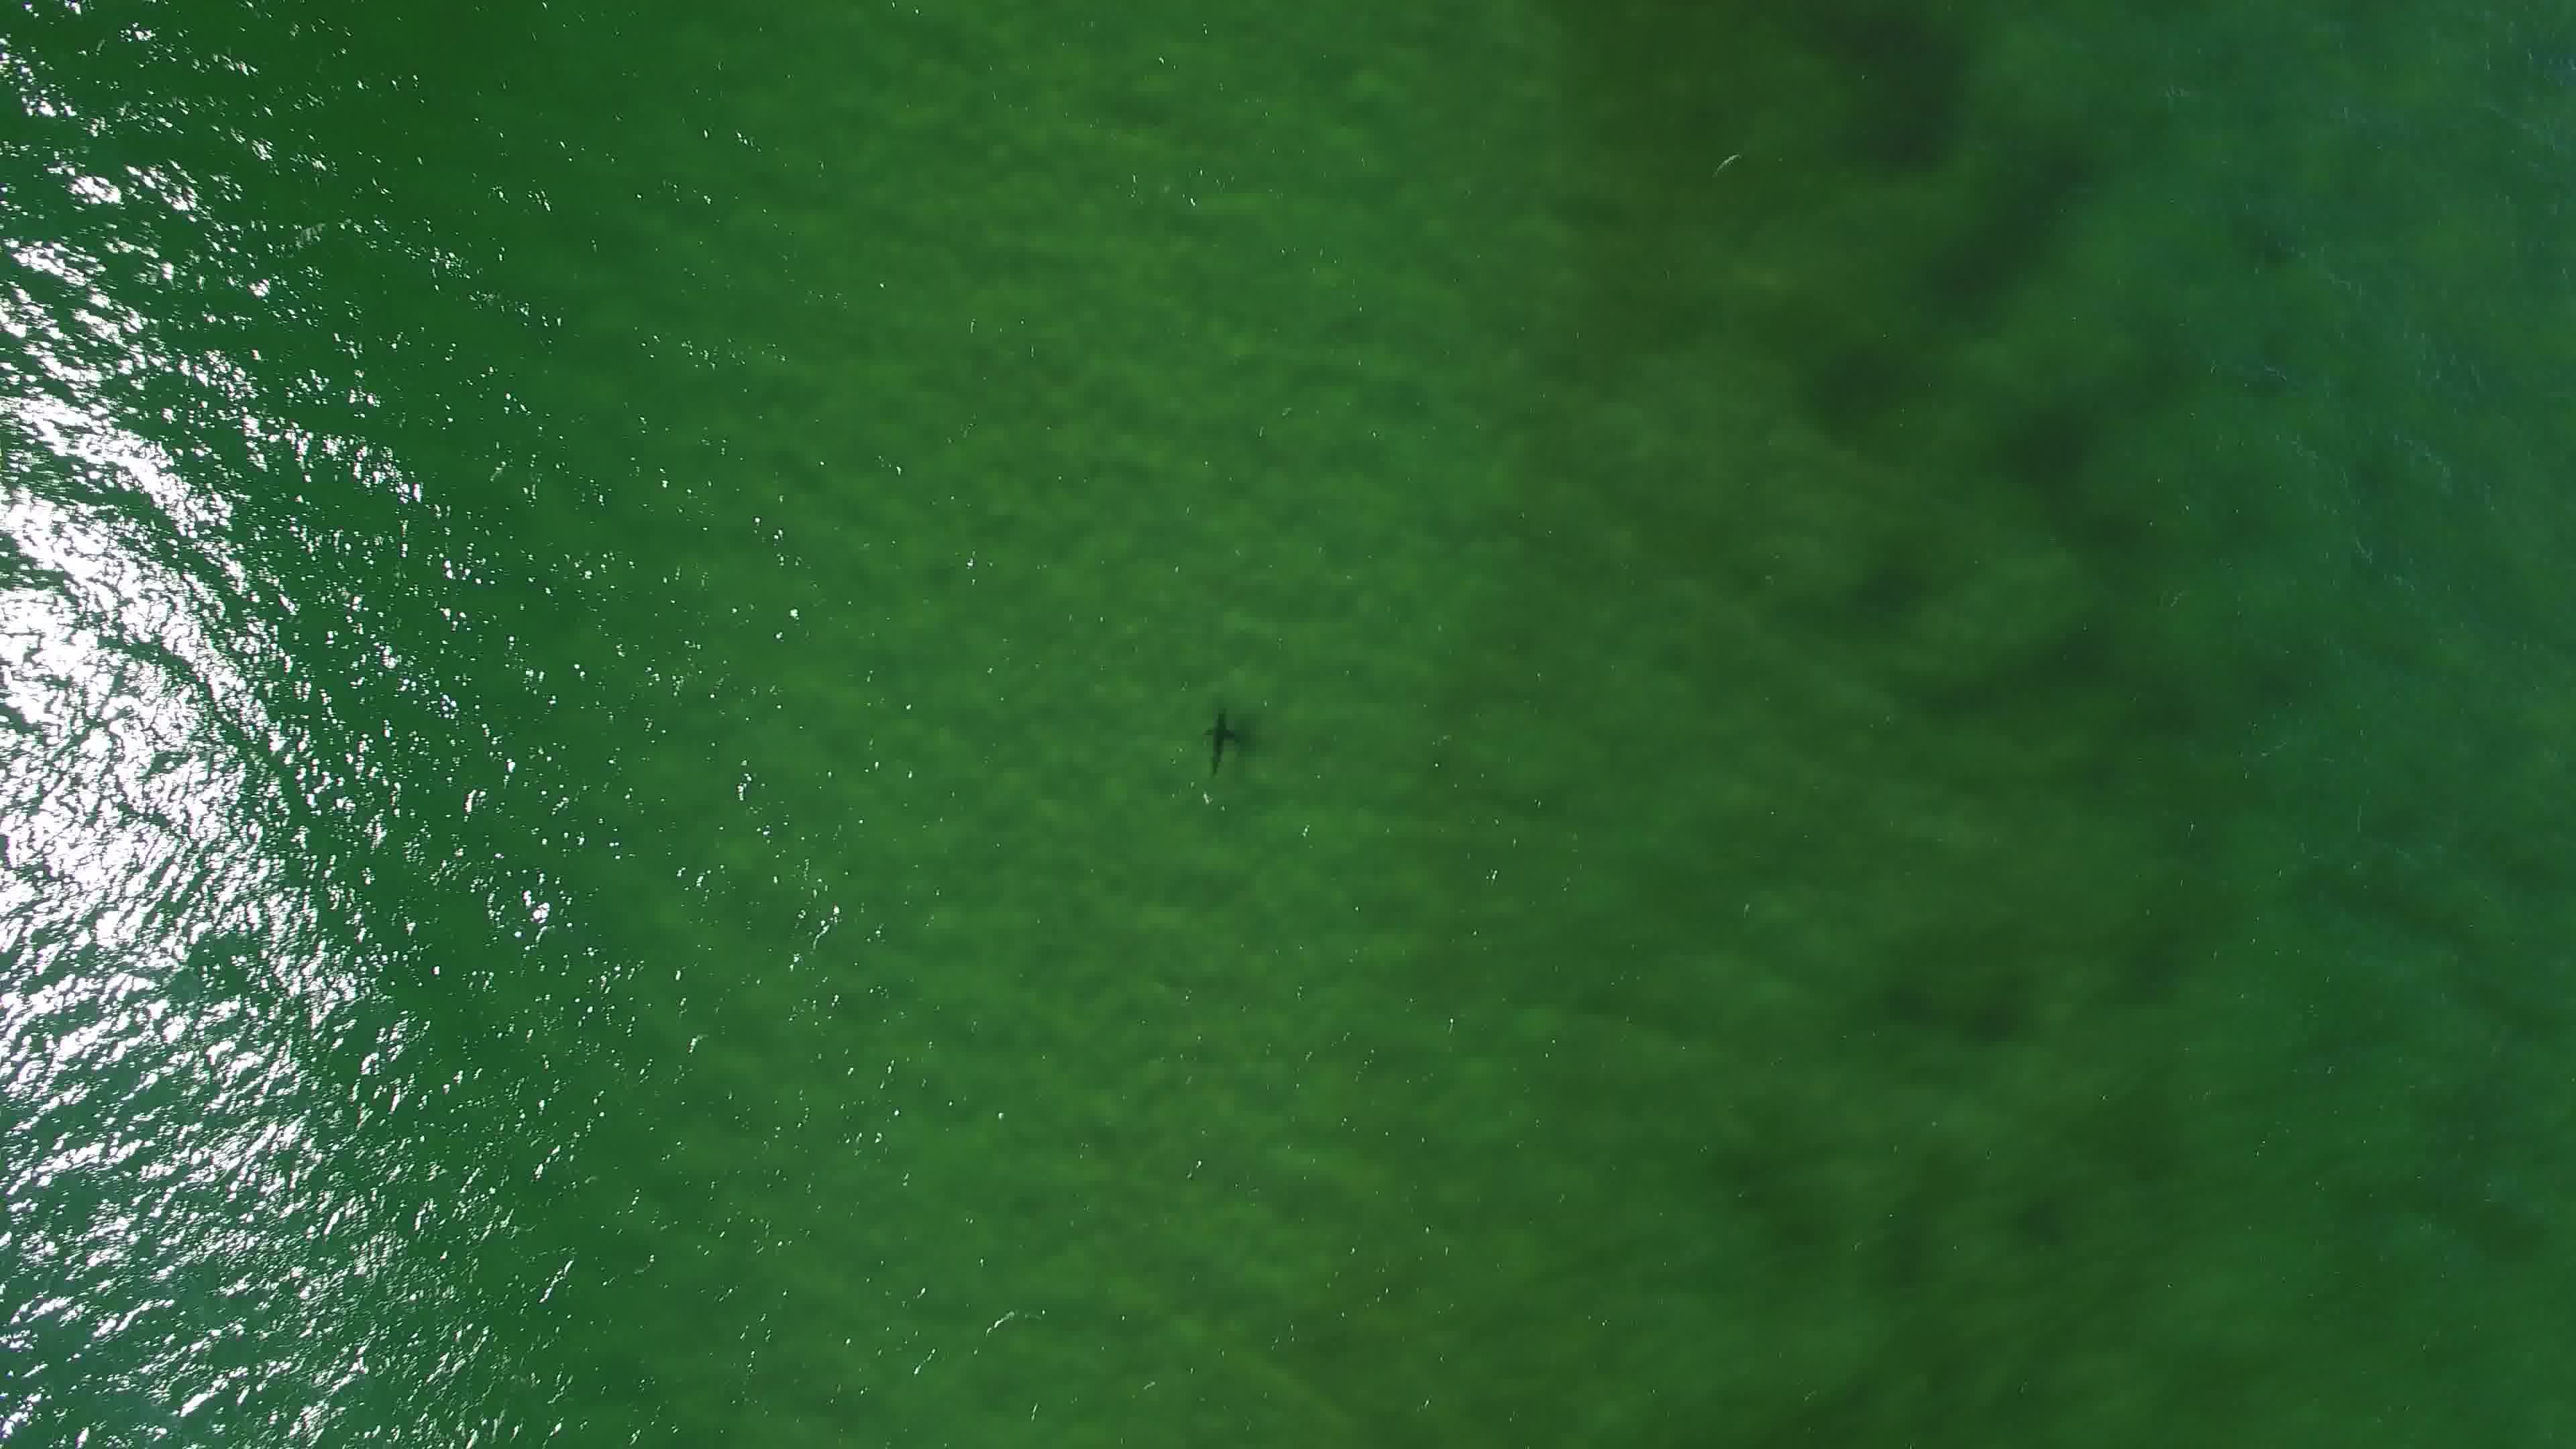shark: (1196, 702, 1244, 786)
